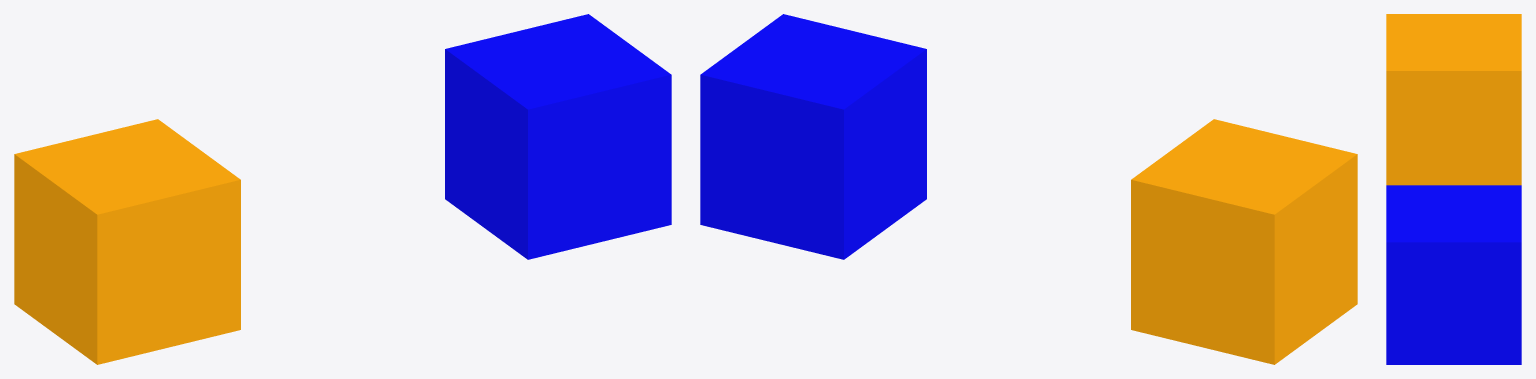
The model's file is animated-cubes.glb.
3 renders of one model, left to right at view 1: azimuth 30°, elevation 25°; view 2: azimuth 150°, elevation 25°; view 3: azimuth 270°, elevation 25°, orthographic. The views are drawn at different scales.
Bounding box in the file's own units: 4 × 1 × 1.
